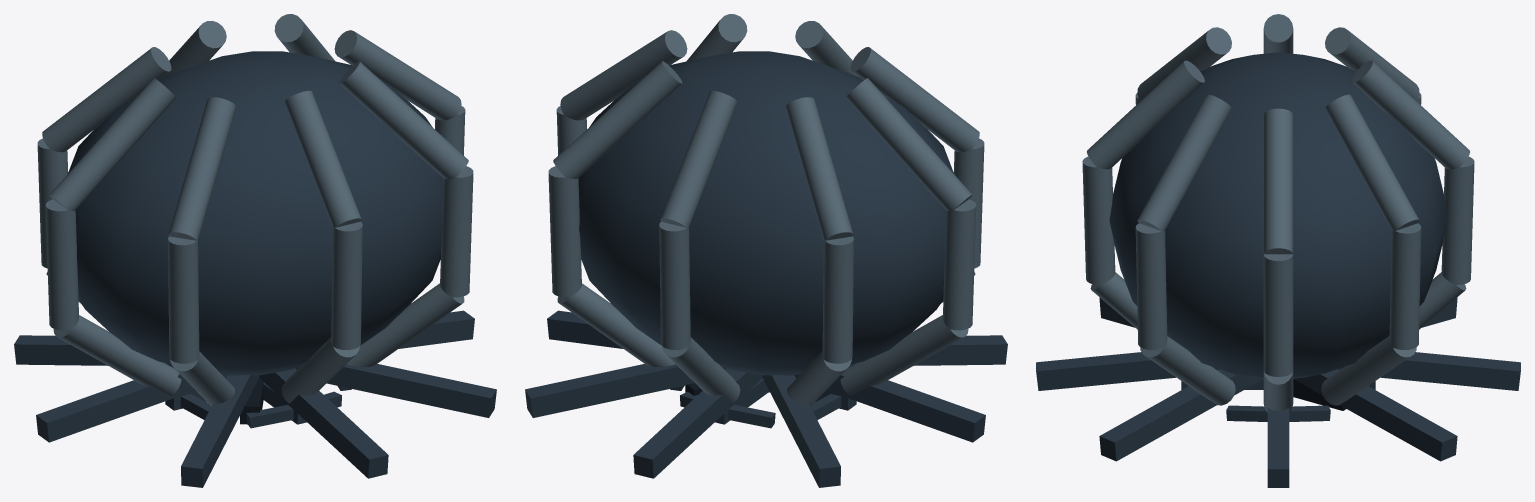
The model's file is CMU3DHiveHiveCoreXeno.glb.
3 views of the same model, side by side, from view 1: azimuth 30°, elevation 25°; view 2: azimuth 150°, elevation 25°; view 3: azimuth 270°, elevation 25° (orthographic).
Visible parts, largest first — view 1: complete organ body, raised curved organ rib (×18), anchoring root (×6), branching ground filament, central ground rhizome; view 2: complete organ body, raised curved organ rib (×18), anchoring root (×6), branching ground filament, tile-joining root; view 3: complete organ body, raised curved organ rib (×18), anchoring root (×5), branching ground filament (×2), central ground rhizome.
Boxes of the visible parts, x1,y1,x2,y2 form: complete organ body: [68, 51, 443, 375]; raised curved organ rib (×18): [37, 14, 473, 406]; anchoring root (×6): [14, 310, 496, 487]; branching ground filament: [246, 405, 293, 428]; central ground rhizome: [240, 378, 263, 424]; complete organ body: [578, 51, 953, 375]; raised curved organ rib (×18): [548, 14, 984, 406]; anchoring root (×6): [525, 310, 1007, 487]; branching ground filament: [728, 405, 775, 428]; tile-joining root: [715, 378, 769, 424]; complete organ body: [1109, 52, 1447, 378]; raised curved organ rib (×18): [1082, 14, 1474, 412]; anchoring root (×5): [1036, 352, 1520, 487]; branching ground filament (×2): [1226, 405, 1330, 421]; central ground rhizome: [1293, 379, 1345, 410].
Bounding box in the file's own units: 1.25 × 0.9266 × 1.25.
